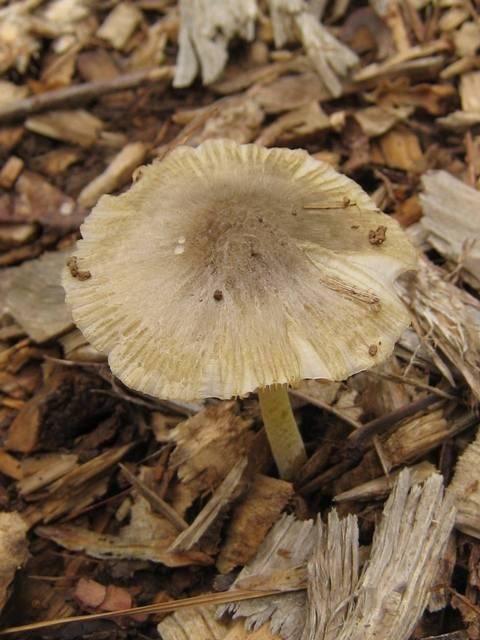edible_mushroom: (59, 136, 421, 479)
